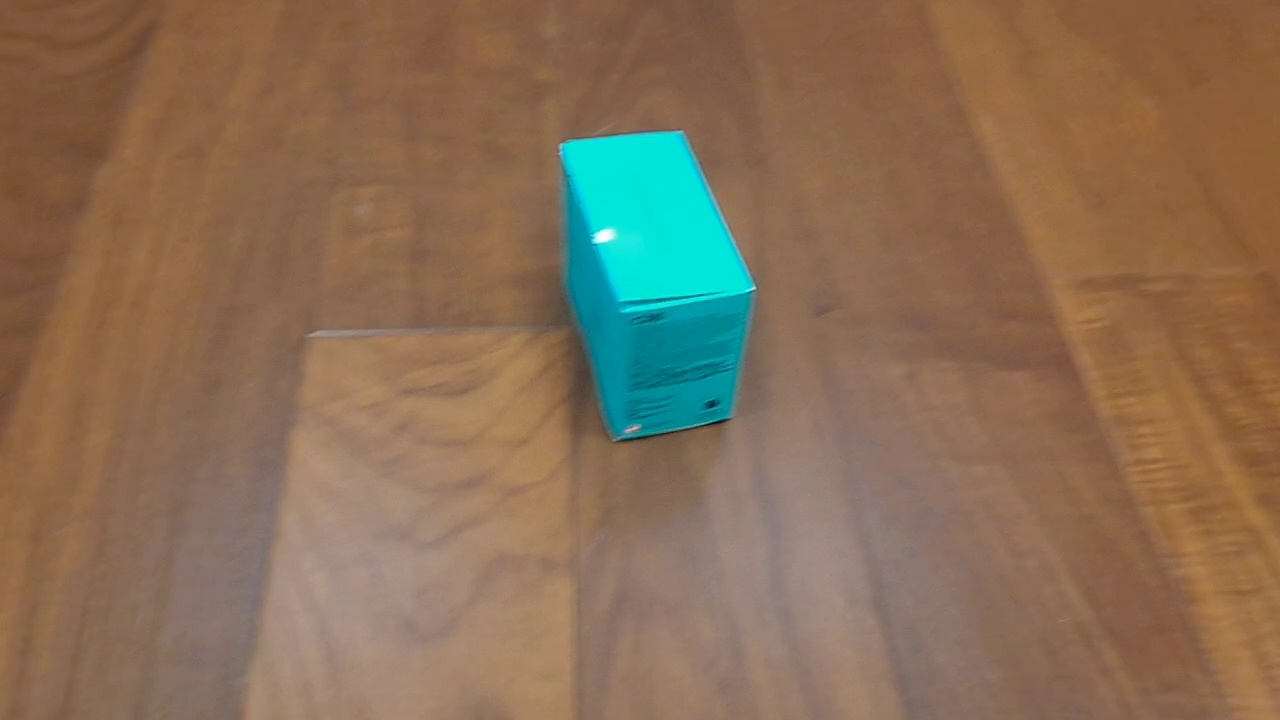webcam: (556, 128, 759, 444)
